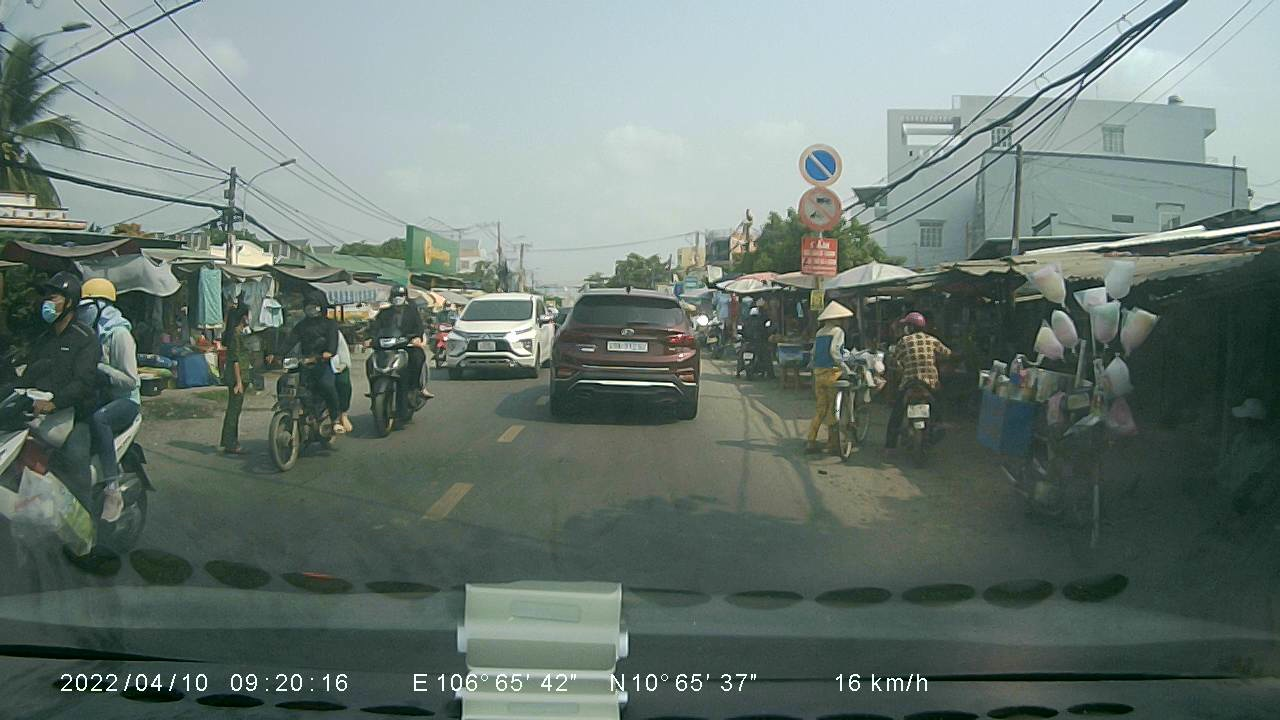Bien khac: (796, 185, 844, 233)
Cam do xe: (794, 140, 842, 183)
